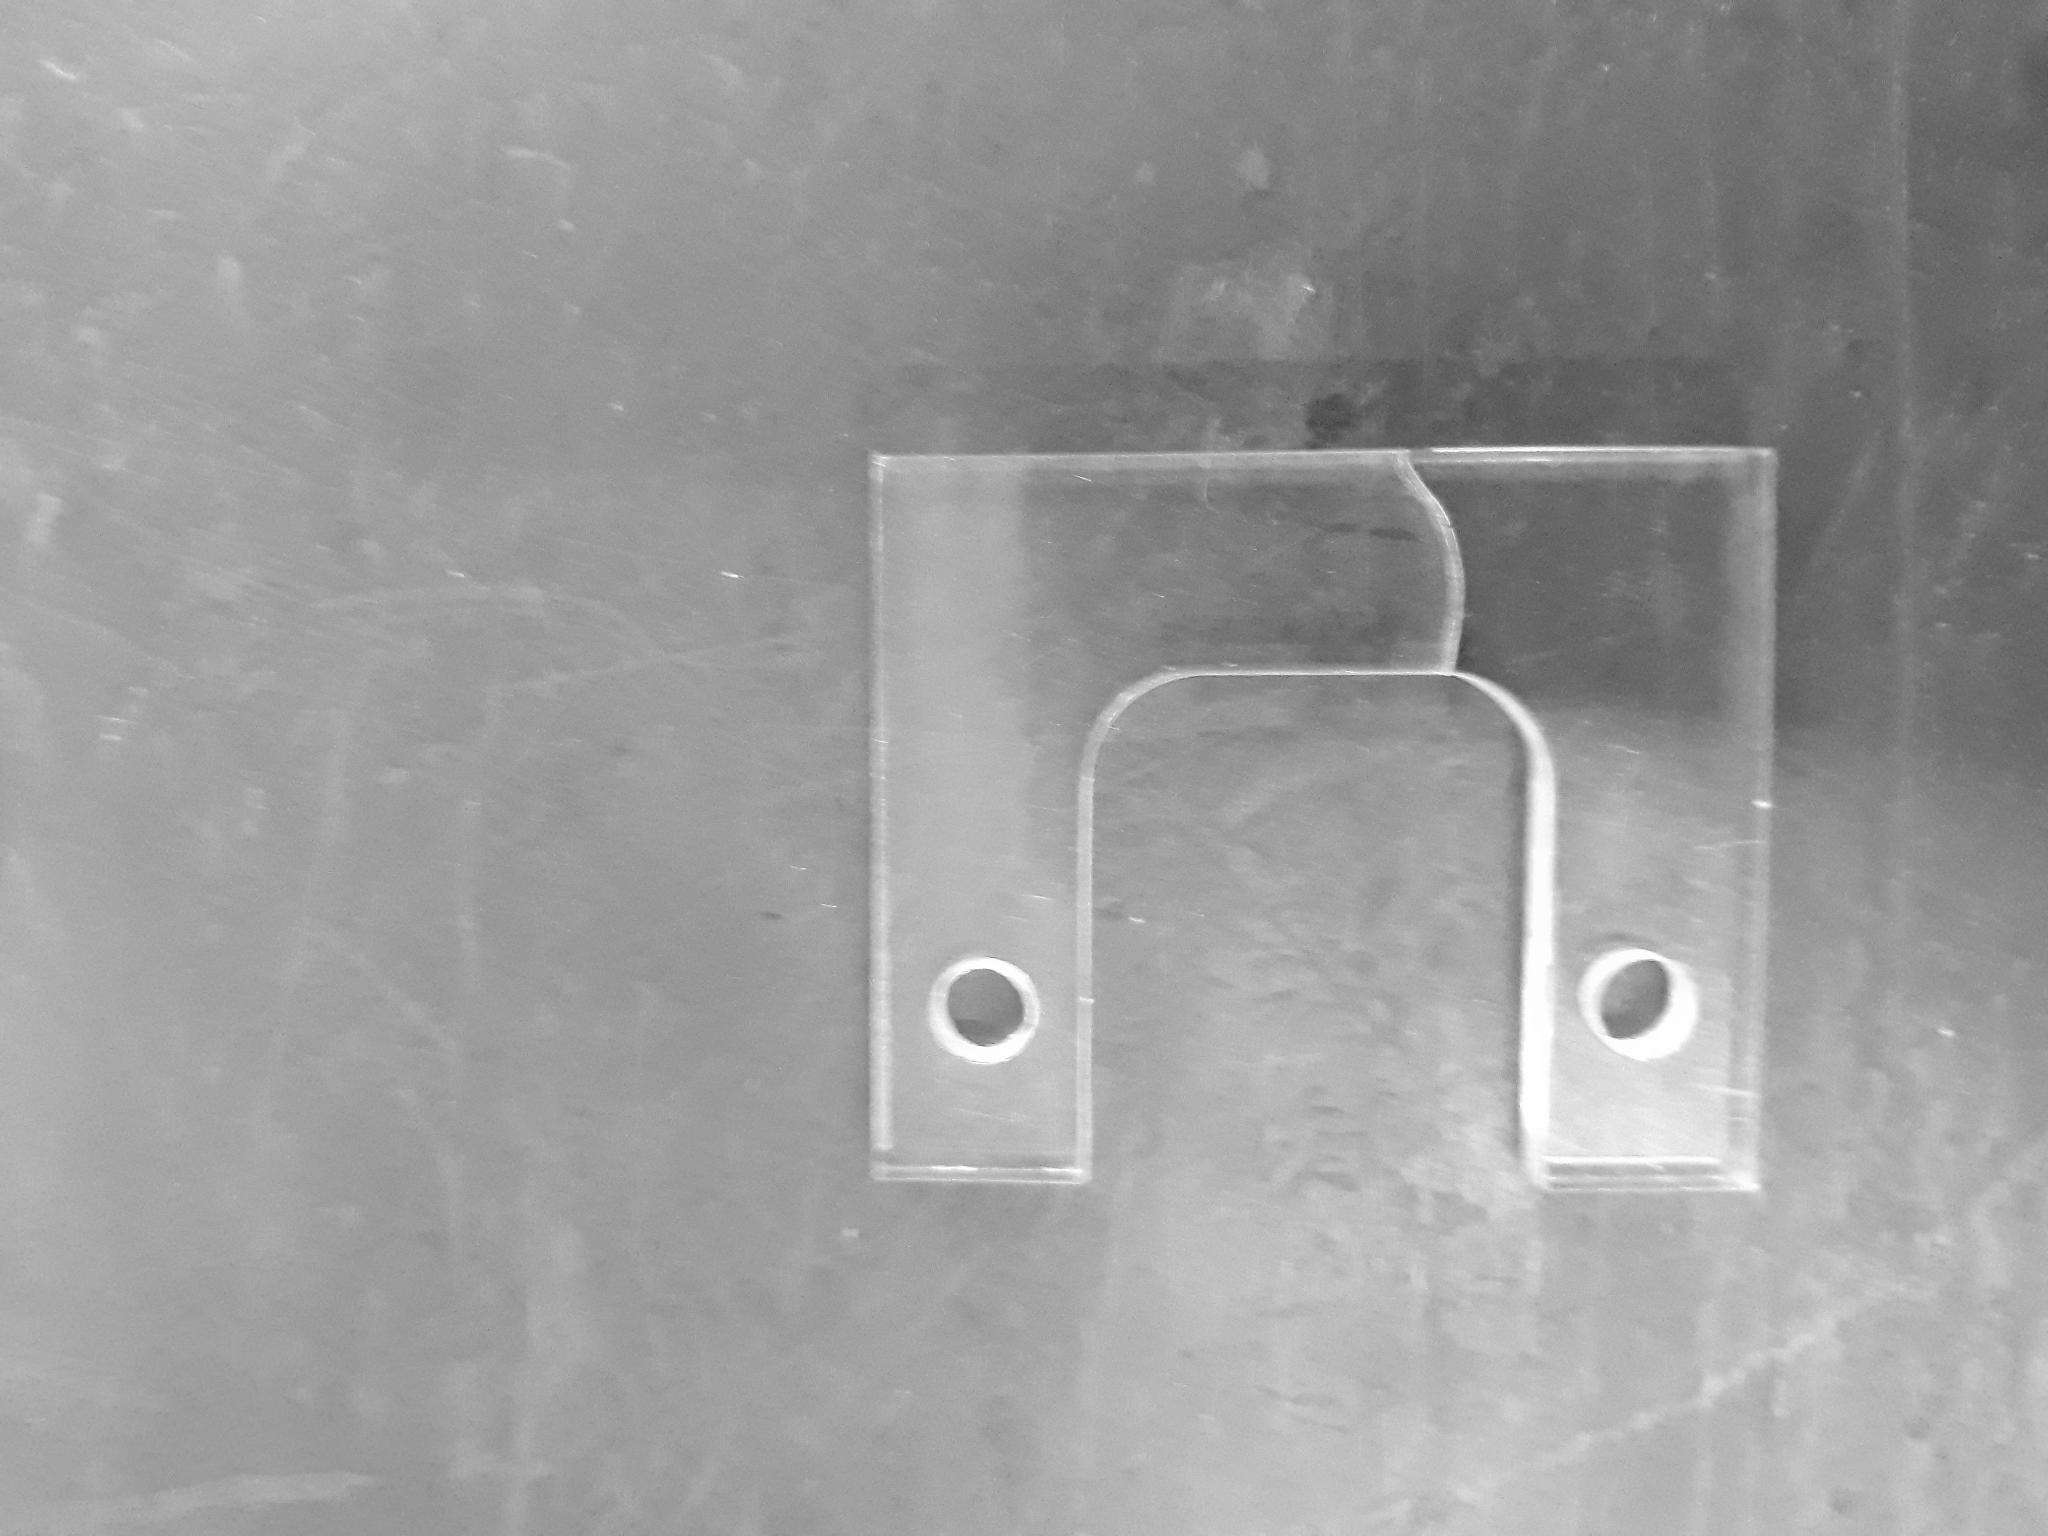Shape_45: (350, 862, 1076, 1536), (472, 1083, 869, 1536)
